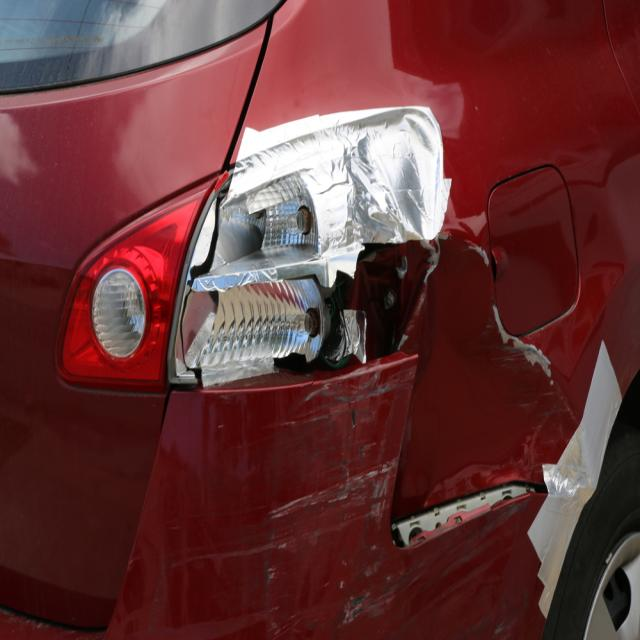Dechirure: (382, 480, 547, 555)
Phare abime: (170, 107, 440, 396)
Rayure: (260, 389, 414, 640), (450, 221, 565, 395)
